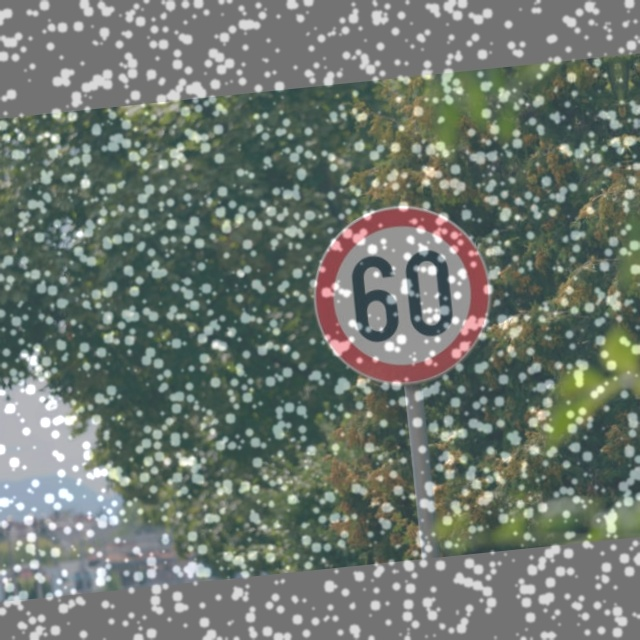Speed_Limit_60: (300, 197, 499, 395)
